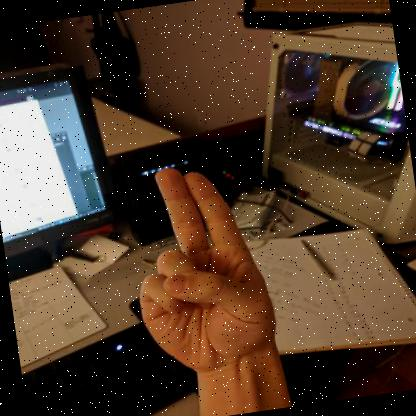U: (139, 167, 281, 374)
